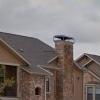Chimney: (44, 29, 79, 69)
